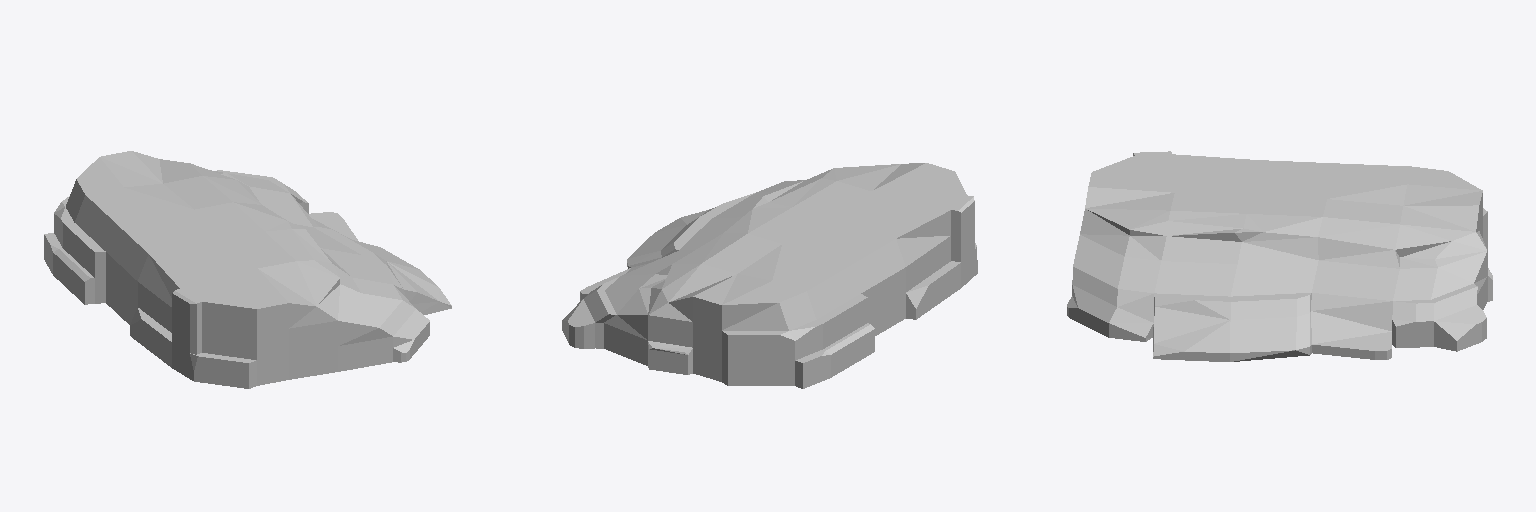
The model's file is platforma_1.2.obj.
The picture shows the model from 3 angles: view 1: azimuth 30°, elevation 25°; view 2: azimuth 150°, elevation 25°; view 3: azimuth 270°, elevation 25°; orthographic projection.
Visible parts, largest first — view 1: Cube.005; view 2: Cube.005; view 3: Cube.005.
Part boxes in pixels (left/top/right/bottom): Cube.005: left=44, top=151, right=451, bottom=388; Cube.005: left=562, top=163, right=977, bottom=388; Cube.005: left=1067, top=151, right=1492, bottom=361.
Bounding box in the file's own units: 24.88 × 6.56 × 33.02.